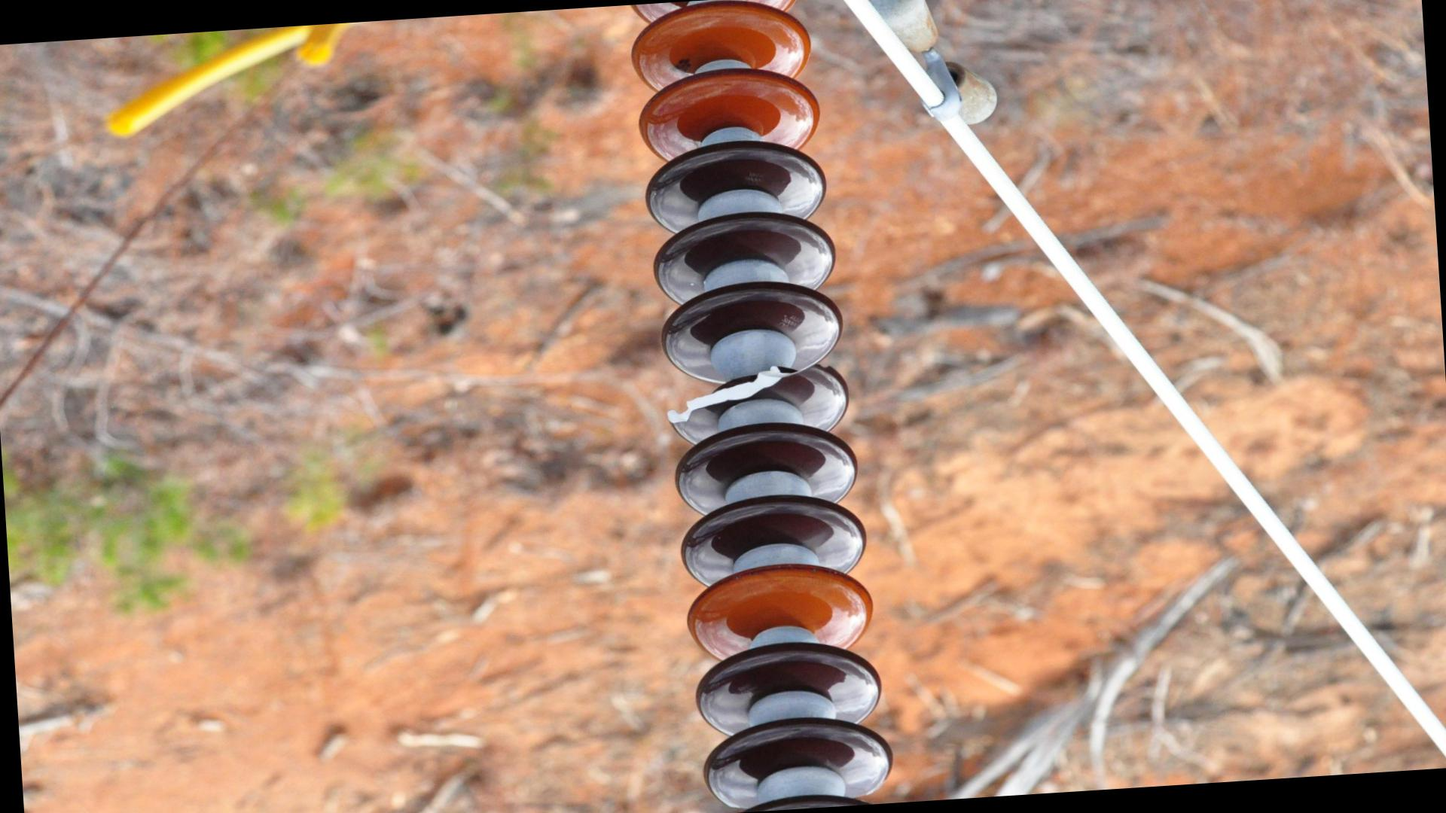damper: (859, 1, 1004, 139)
